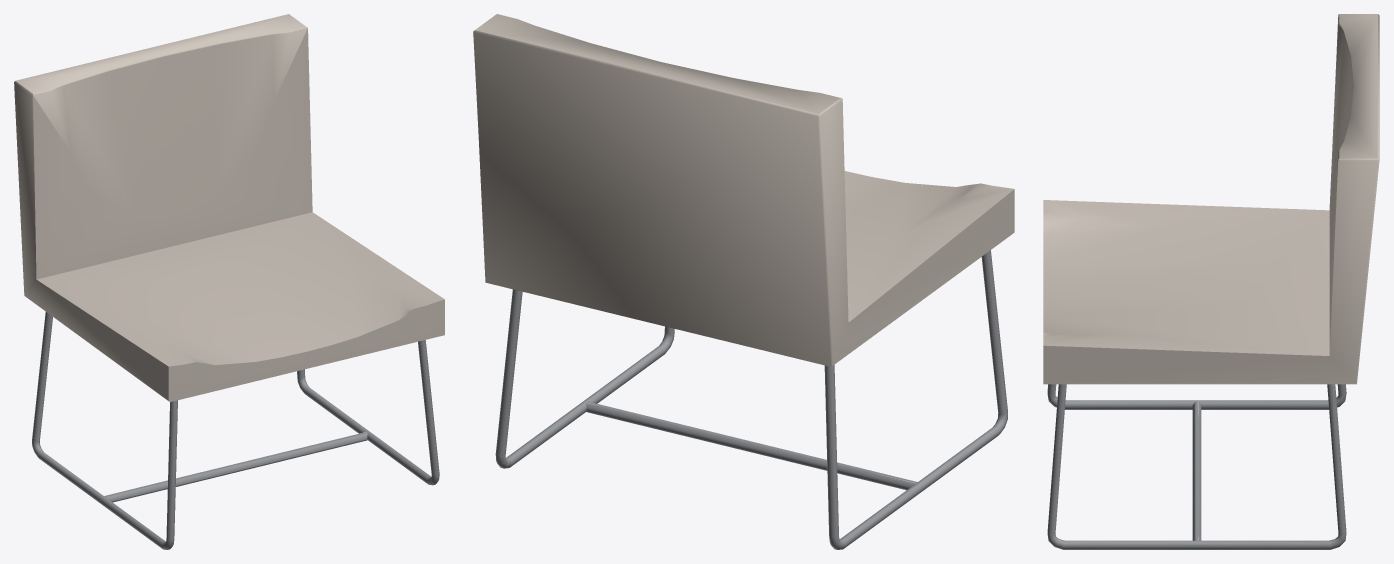
The model's file is LC_3012_ChairG_LOD1.FBX.
The picture shows the model from 3 angles, left to right: view 1: azimuth 30°, elevation 25°; view 2: azimuth 150°, elevation 25°; view 3: azimuth 270°, elevation 25°; orthographic projection. The views are drawn at different scales.
Parts seen in each view (by area): view 1: LC_3012_ChairG_LOD1; view 2: LC_3012_ChairG_LOD1; view 3: LC_3012_ChairG_LOD1.
Part boxes in pixels (x1=…): LC_3012_ChairG_LOD1: x1=14, y1=14, x2=444, y2=549; LC_3012_ChairG_LOD1: x1=473, y1=14, x2=1014, y2=549; LC_3012_ChairG_LOD1: x1=1043, y1=14, x2=1379, y2=549.
Size of the model in its own units: 44.92 by 56.46 by 43.78.
1 material, 1 textured.
